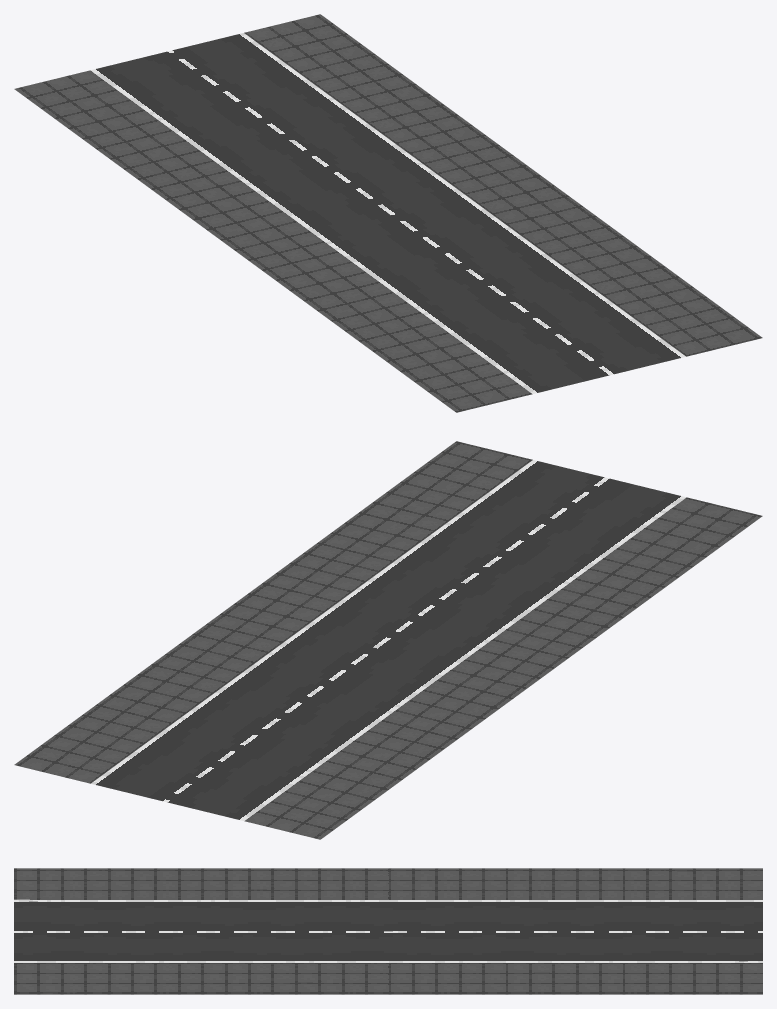
File: Street.glb
The picture shows the model from 3 angles, top to bottom: view 1: azimuth 30°, elevation 25°; view 2: azimuth 150°, elevation 25°; view 3: azimuth 270°, elevation 25°; orthographic projection. The views are drawn at different scales.
Parts seen in each view (by area): view 1: Cube; view 2: Cube; view 3: Cube.
Part boxes in pixels (x1,y1,x2,y2): Cube: (14,14,762,412); Cube: (14,441,762,839); Cube: (14,868,762,994).
Size of the model in its own units: 4 by 0 by 10.
1 material, 1 textured.
